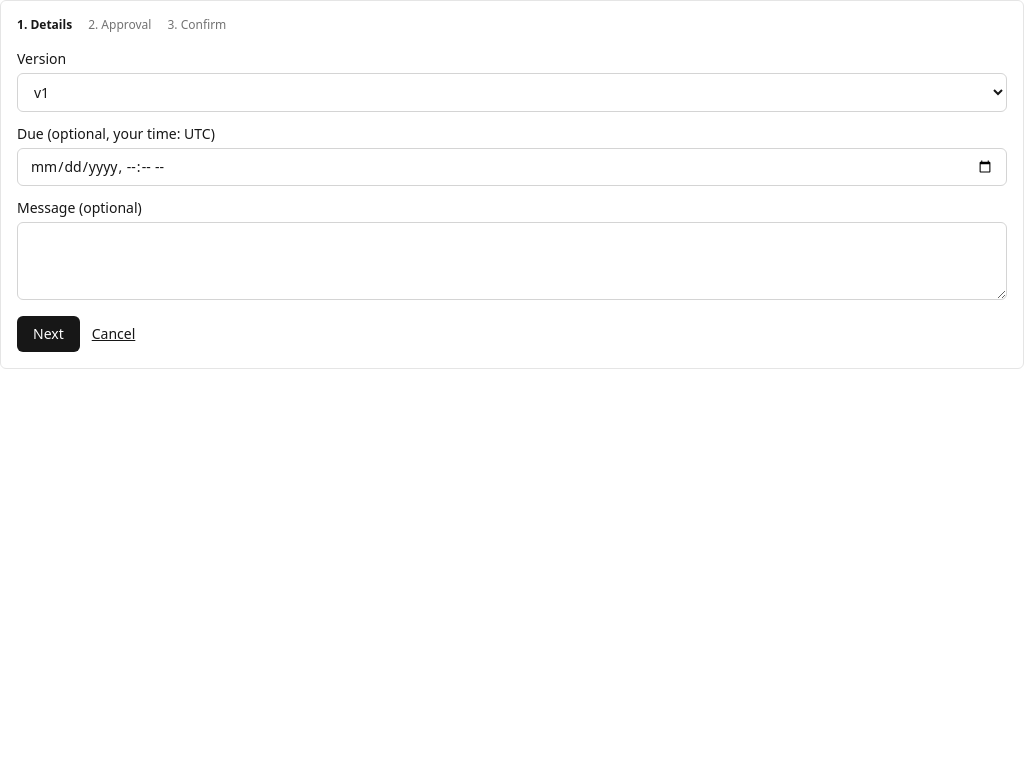
Test: RequestReviewWizard › rejects the same reviewer in two steps
Step 1. Click the button "Next" → (48, 334), box x1=17 y1=316 x2=80 y2=352
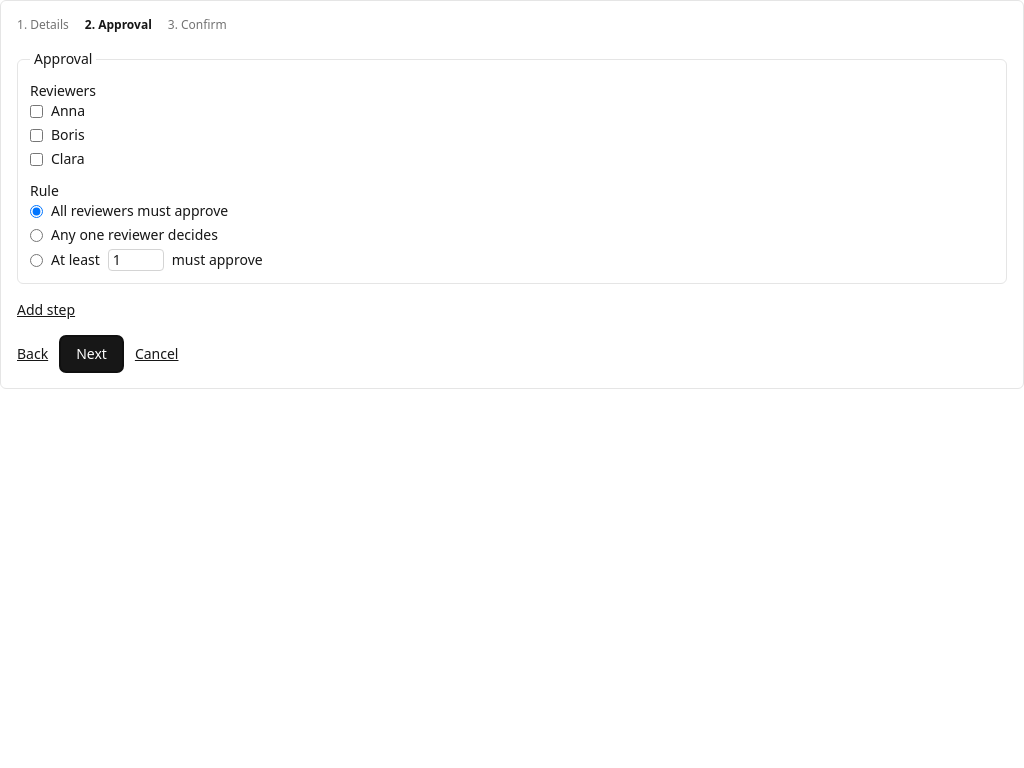
Step 2. Click the checkbox labelled "Anna" → (36, 111), box x1=30 y1=104 x2=43 y2=118
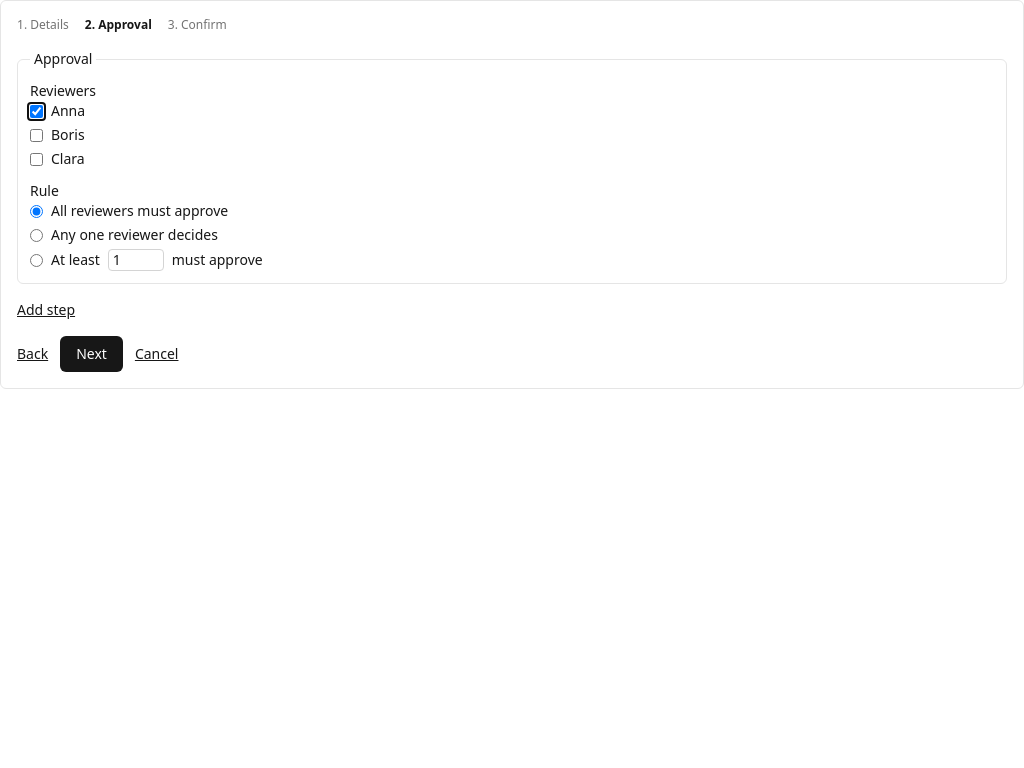
Step 3. Click the button "Add step" → (46, 310), box x1=17 y1=300 x2=75 y2=320
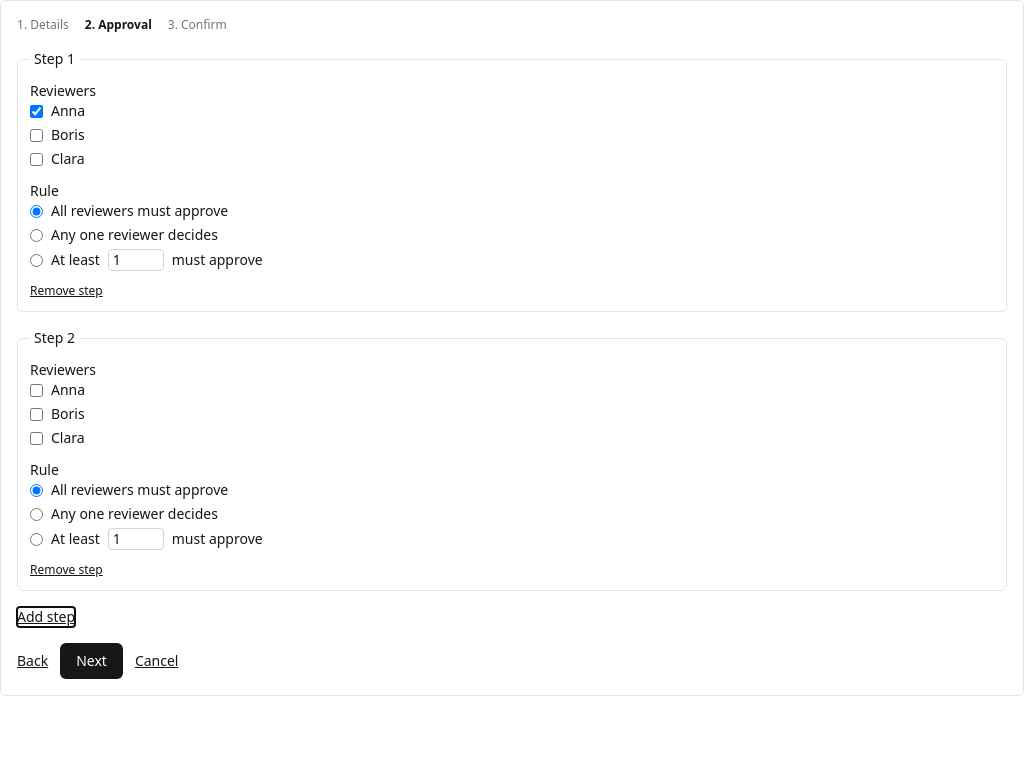
Step 4. Click the checkbox labelled "Anna" below "Step 2" → (36, 390), box x1=30 y1=384 x2=43 y2=396
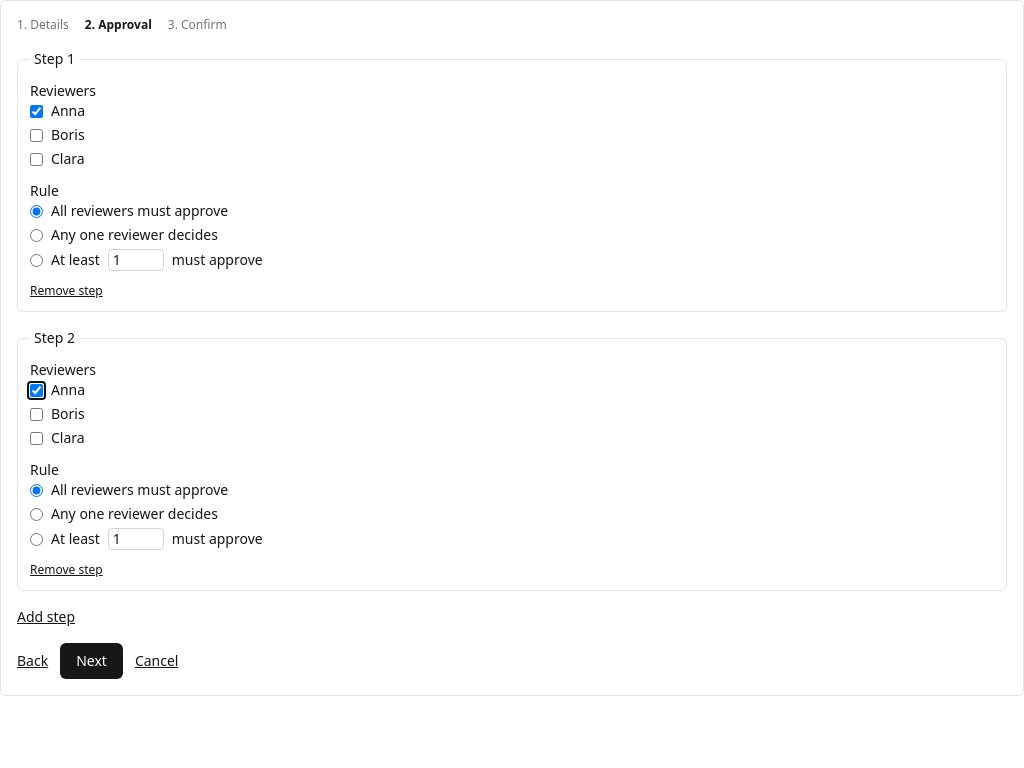
Step 5. Click the button "Next" → (92, 661), box x1=60 y1=643 x2=123 y2=679
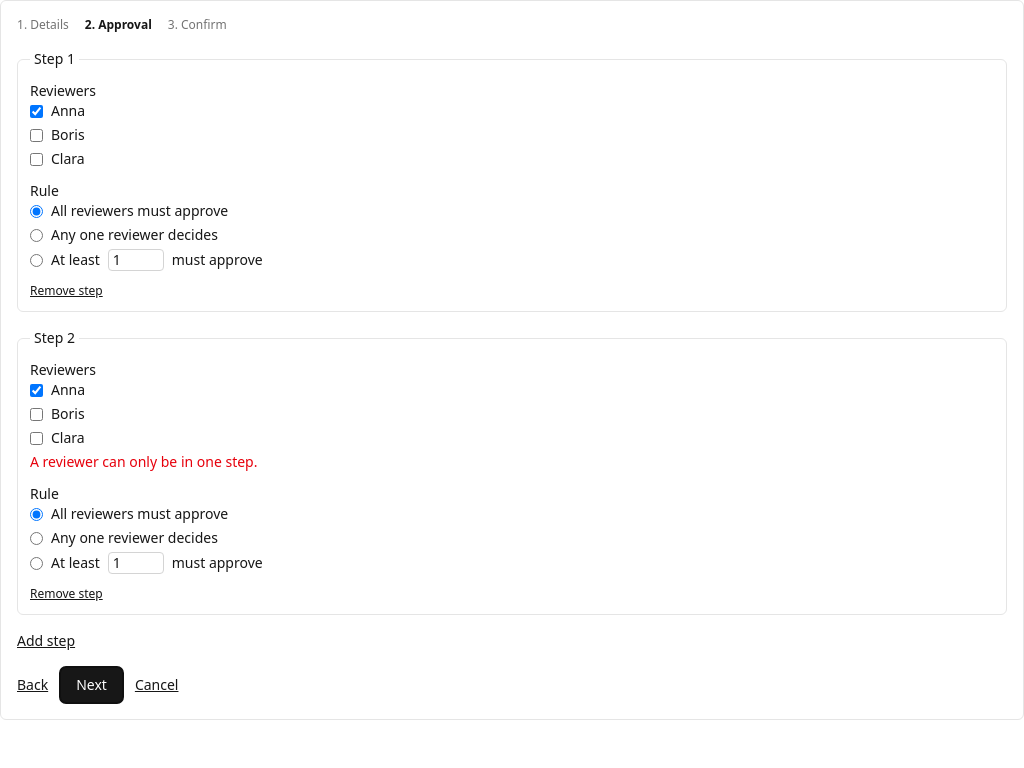
Result: the text "A reviewer can only be in one step." is shown at x1=30 y1=452 x2=258 y2=471
